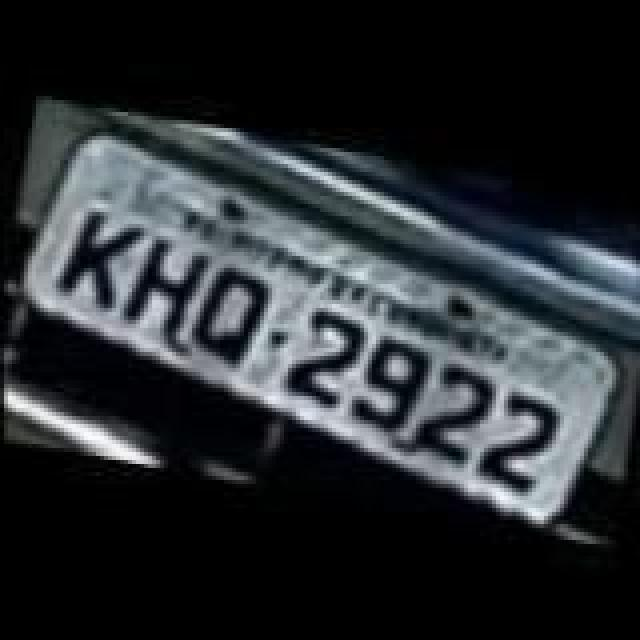2: (468, 386, 564, 502), (274, 298, 370, 414), (408, 358, 496, 470)
9: (344, 328, 432, 436)
H: (108, 230, 216, 350)
K: (50, 204, 142, 316)
Q: (180, 258, 272, 370)
